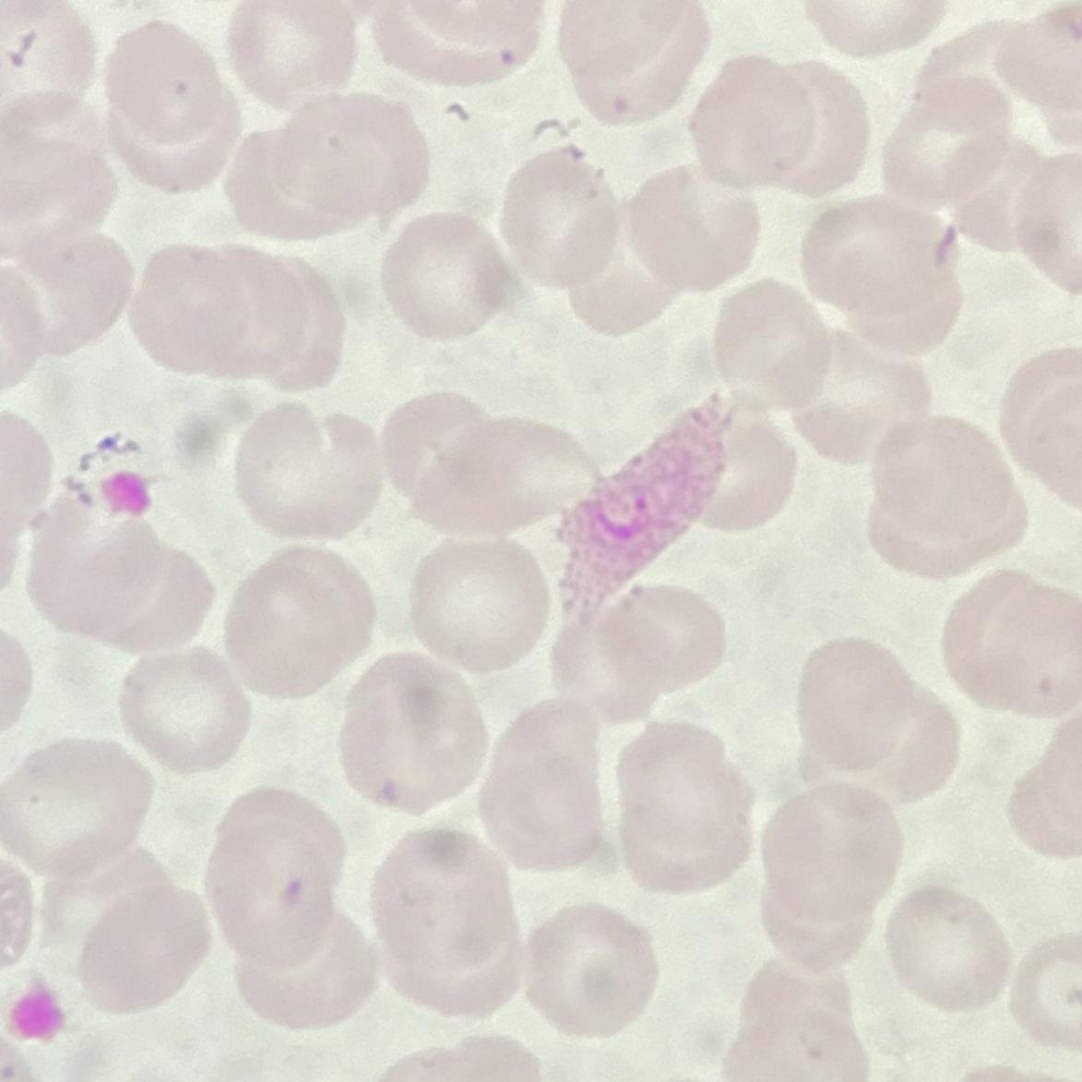Infected: (560, 395, 736, 623)
Uninfected: (136, 243, 343, 392), (230, 92, 430, 244), (388, 398, 595, 543), (366, 826, 525, 1012), (27, 499, 214, 656), (201, 786, 352, 970), (756, 785, 902, 968), (791, 637, 952, 799), (801, 200, 965, 357), (868, 415, 1024, 580), (336, 652, 491, 814), (691, 54, 866, 197), (612, 723, 755, 892), (102, 20, 242, 190), (223, 547, 376, 701), (2, 737, 154, 885), (479, 700, 614, 866), (72, 859, 215, 1015), (940, 568, 1079, 721), (962, 121, 1082, 298), (228, 407, 375, 545), (621, 166, 762, 306), (787, 324, 933, 457), (405, 541, 548, 676), (887, 70, 1021, 210), (4, 226, 132, 370), (558, 2, 709, 124), (378, 210, 514, 345), (497, 149, 624, 291), (521, 902, 653, 1037), (709, 276, 835, 412), (3, 108, 119, 254), (724, 963, 872, 1076), (558, 193, 670, 340), (117, 650, 244, 775), (374, 2, 547, 91), (884, 885, 1007, 1010), (228, 1, 363, 108), (683, 411, 796, 531), (614, 585, 727, 703), (1012, 702, 1082, 856), (1, 628, 32, 740)
